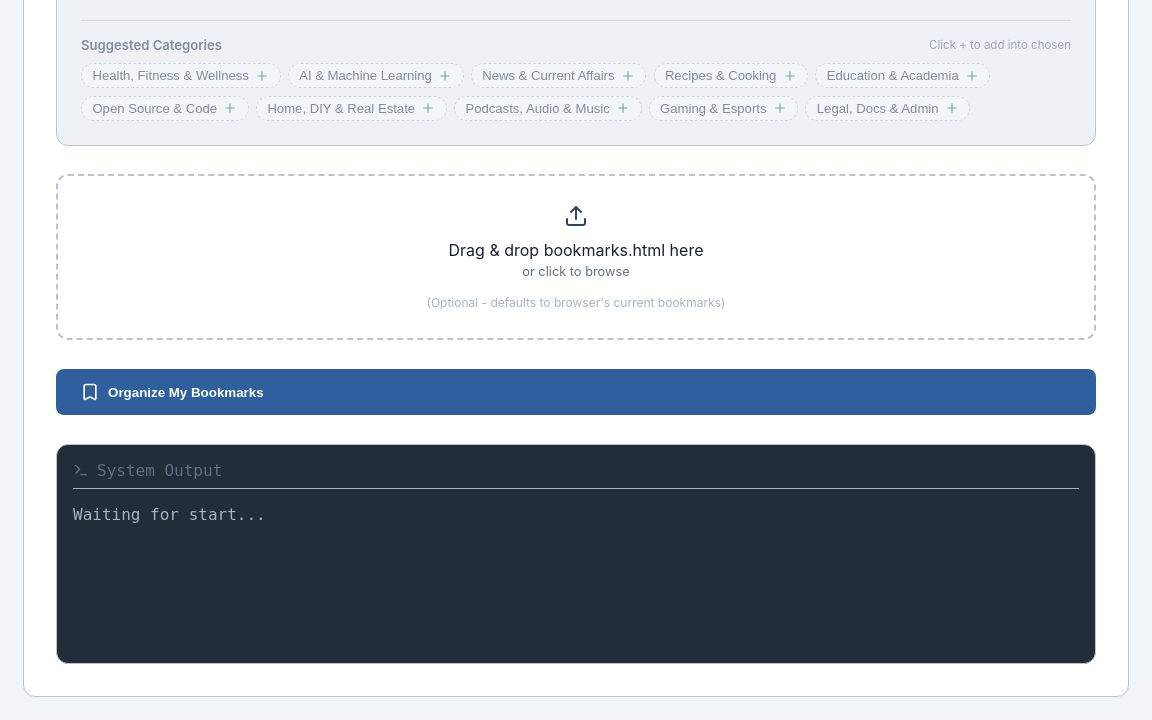
Scenario: Organizer Component UI Tests › saves an in-panel inferred run for later download without saving its categories as a setting
(page scrolled)
What coordinates should you click on to do the following:
click the button "Organize My Bookmarks"
I would click on:
 (186, 392)
Its box is top-left (56, 369), bottom-right (1096, 415).
(page scrolled)
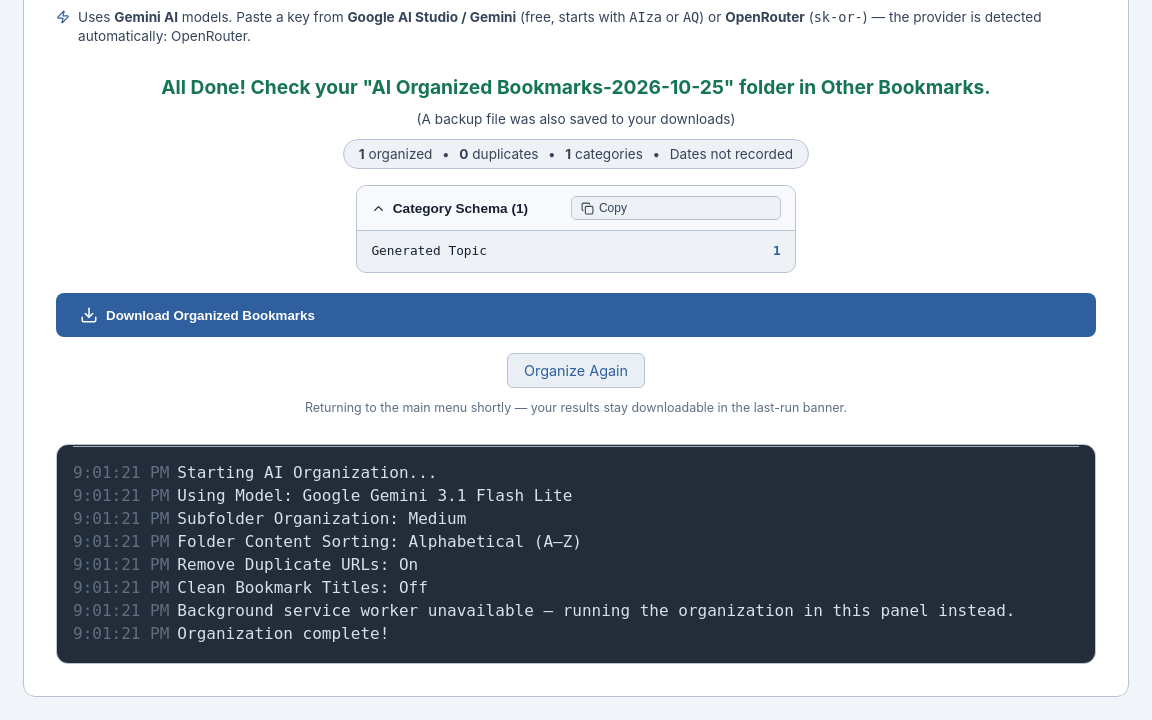
Expected: the text "Organization complete!" is shown, top-left (177, 624), bottom-right (389, 643)
